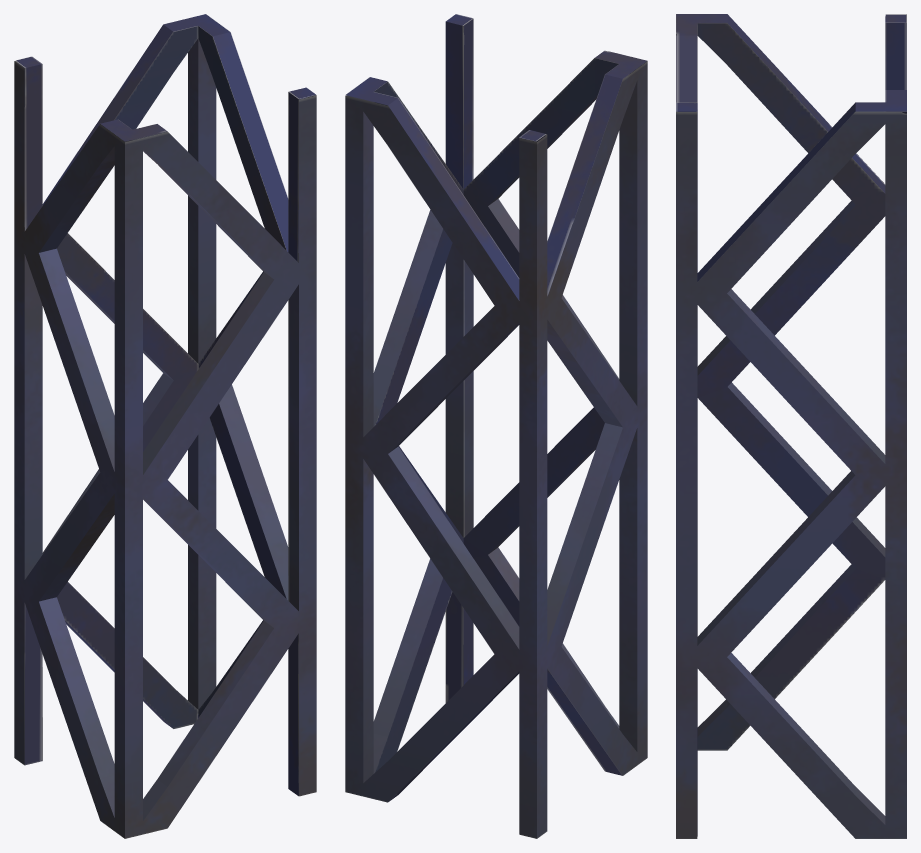
Rendered from Viga.fbx.
3 views of the same model, side by side, from view 1: azimuth 30°, elevation 25°; view 2: azimuth 150°, elevation 25°; view 3: azimuth 270°, elevation 25° (orthographic). The views are drawn at different scales.
Visible parts, largest first — view 1: Vigas v2; view 2: Vigas v2; view 3: Vigas v2.
Part boxes in pixels (bbox=[...]): Vigas v2: bbox=[14, 14, 316, 838]; Vigas v2: bbox=[345, 14, 647, 838]; Vigas v2: bbox=[676, 14, 906, 838].
Bounding box in the file's own units: 166 × 579 × 166.
